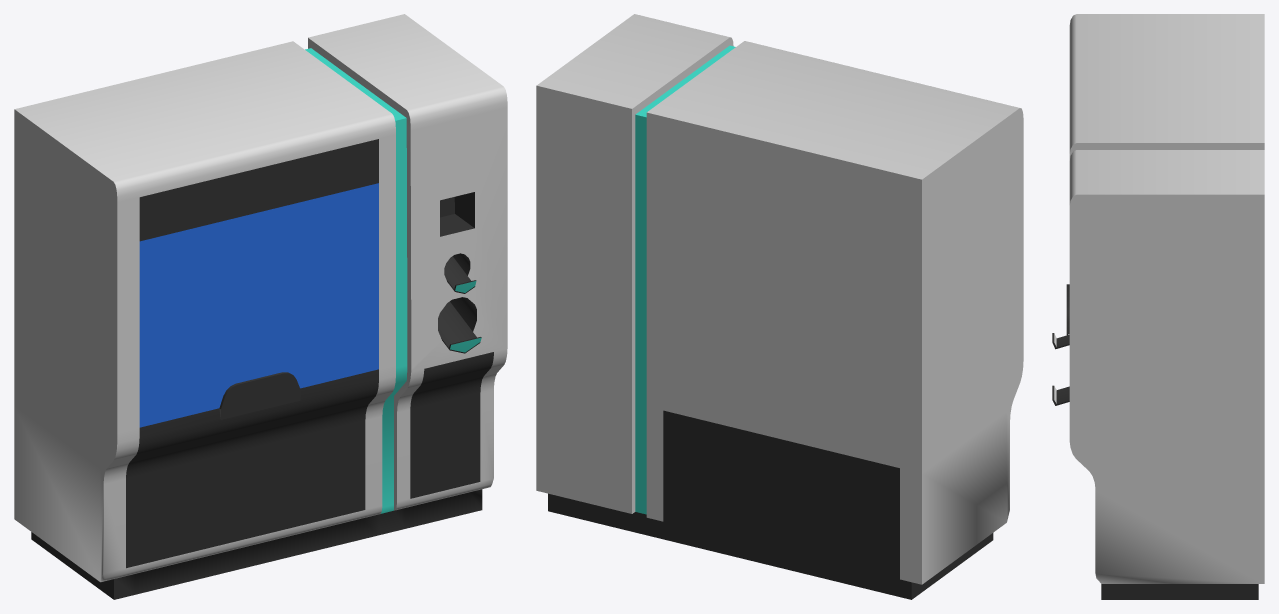
File: Vending Machine Test.fbx
3 views of the same model, side by side, from view 1: azimuth 30°, elevation 25°; view 2: azimuth 150°, elevation 25°; view 3: azimuth 270°, elevation 25° (orthographic). The views are drawn at different scales.
Visible parts, largest first — view 1: Vending Machine; view 2: Vending Machine; view 3: Vending Machine.
Boxes of the visible parts, bbox=[...] form: Vending Machine: bbox=[14, 14, 507, 599]; Vending Machine: bbox=[536, 14, 1023, 599]; Vending Machine: bbox=[1052, 14, 1264, 599].
Size of the model in its own units: 1.8 by 1.9 by 0.8934.
